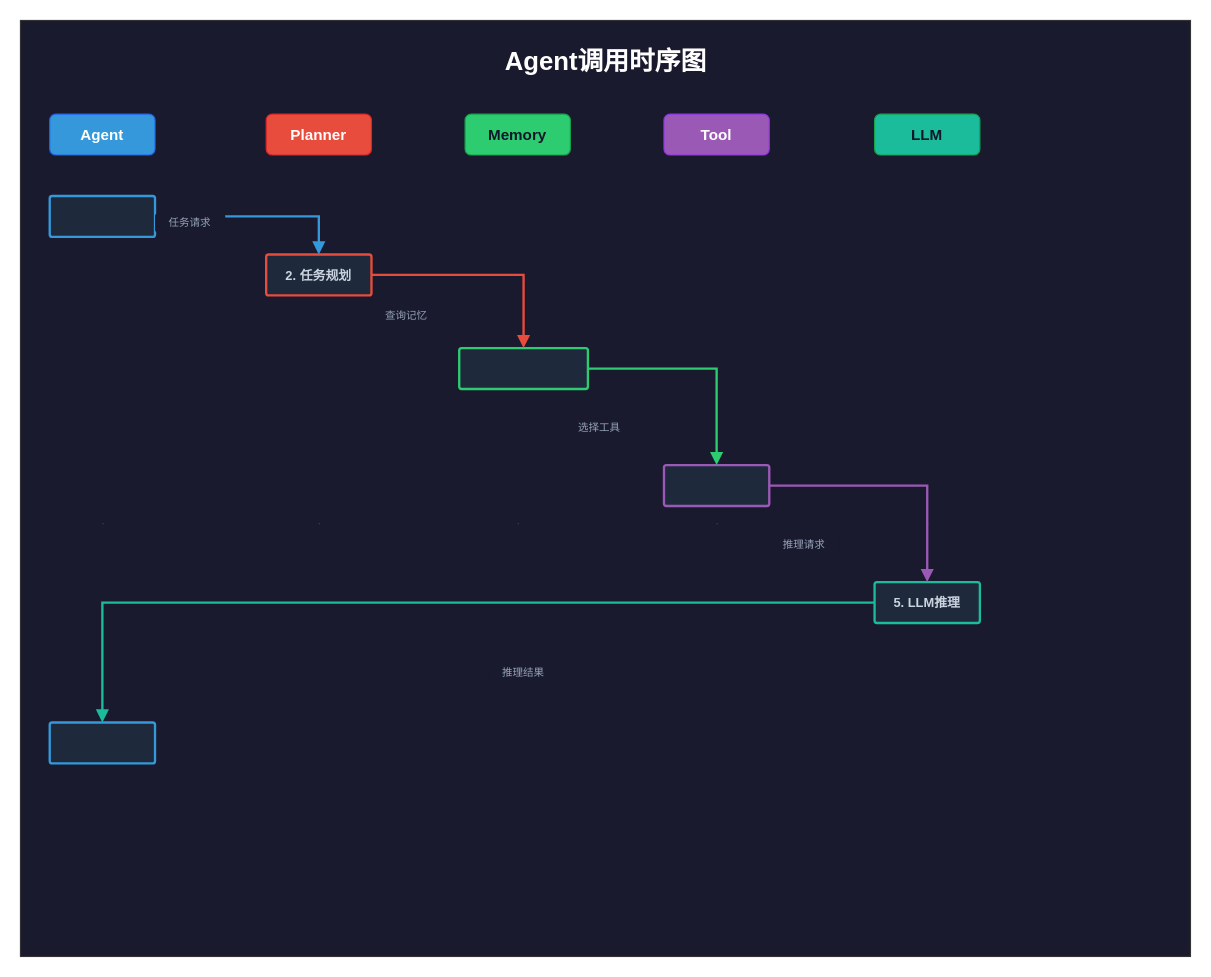
Image size: 1211x977. Some labels were removed from this diagram. The shapes that lost their labels are listed below. From the top down, each one's centre as x and y in pixels, then its label:
pixel 102 216: 1. 用户输入
pixel 523 368: 3. 获取上下文
pixel 716 485: 4. 调用工具
pixel 102 742: 6. 返回结果
